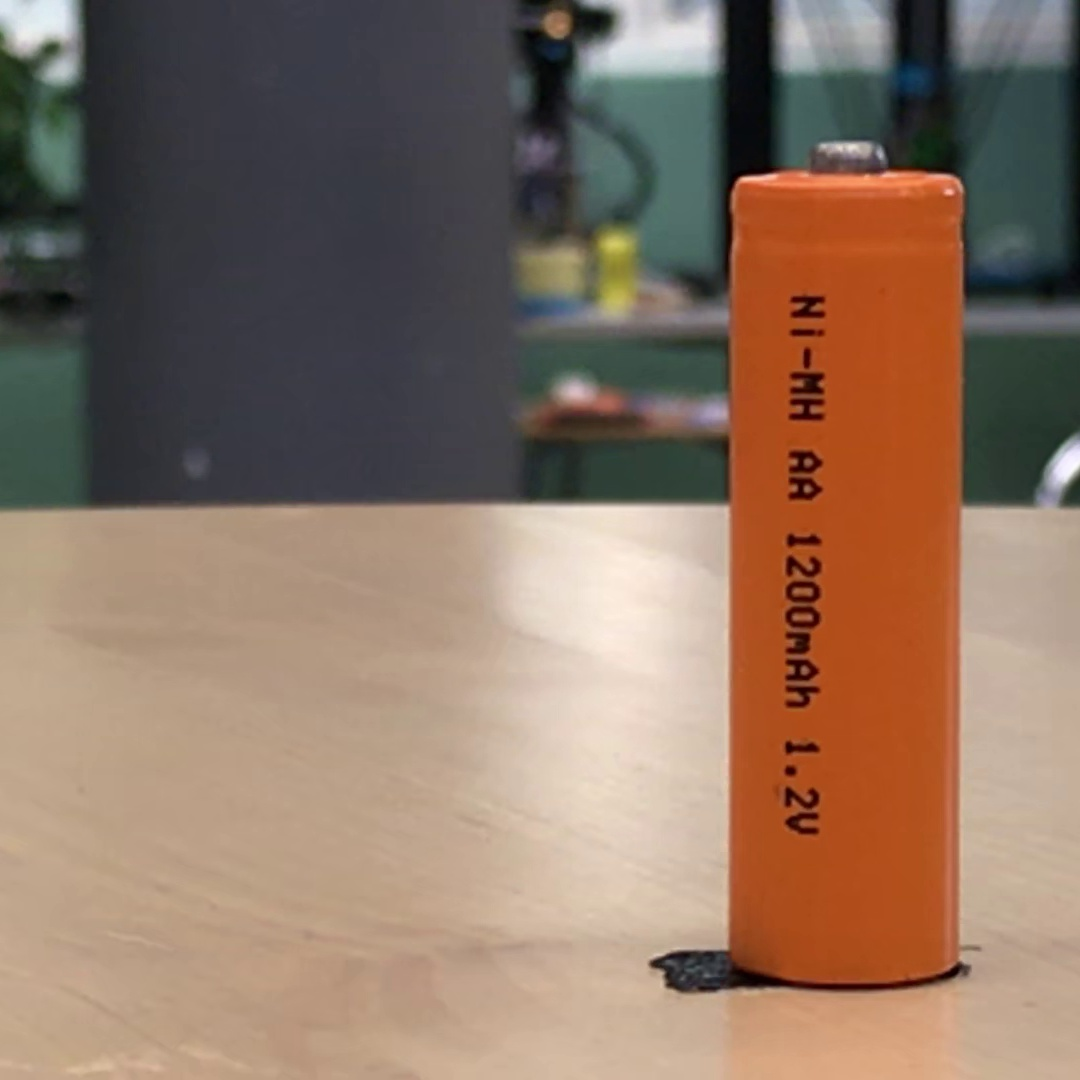keyword: (781, 285, 834, 431), (775, 731, 829, 844)
